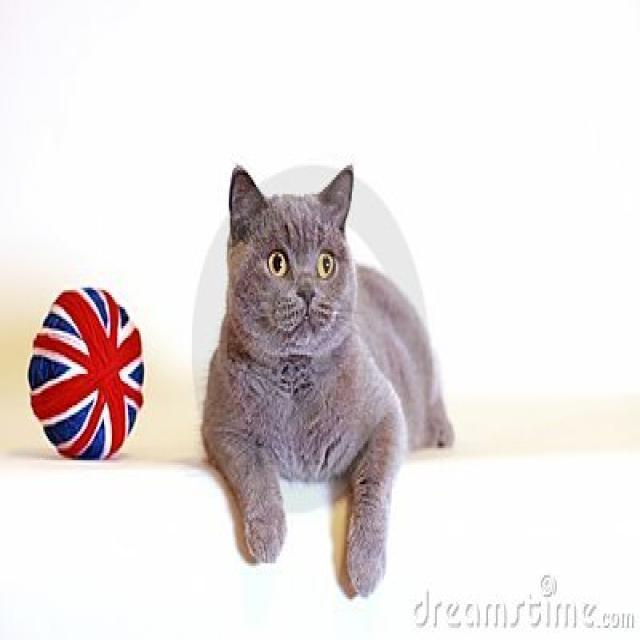British_Shorthair: (212, 155, 366, 368)
